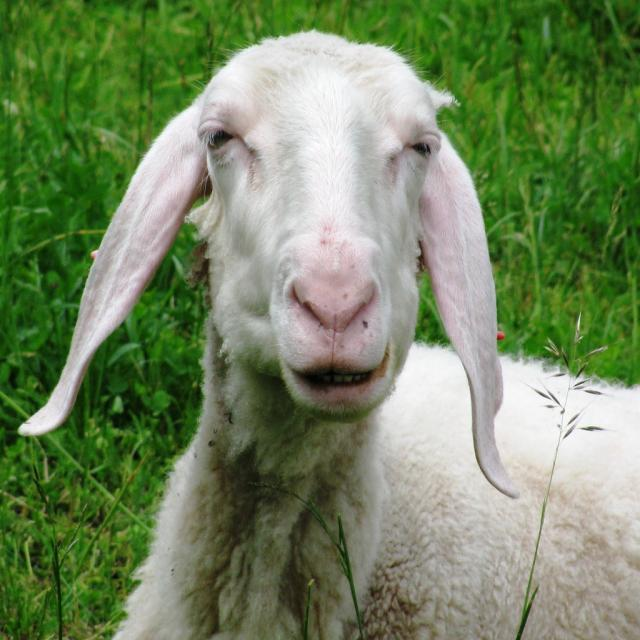Goat: (17, 28, 639, 639)
